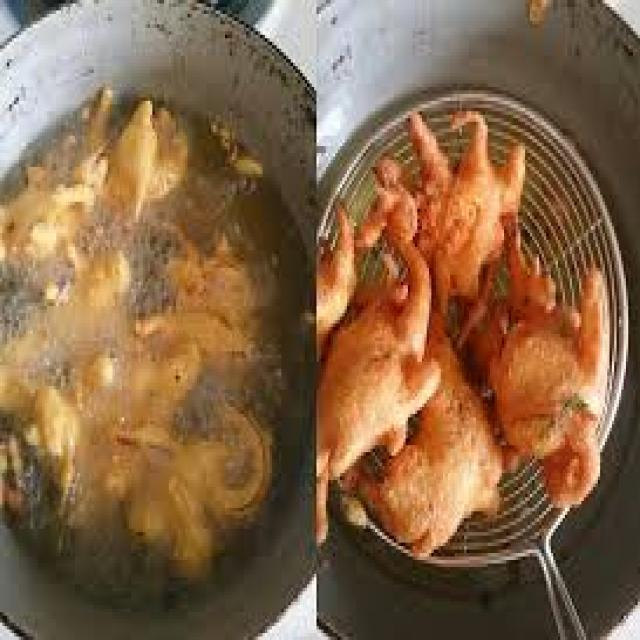BAJI: (316, 106, 618, 565)
